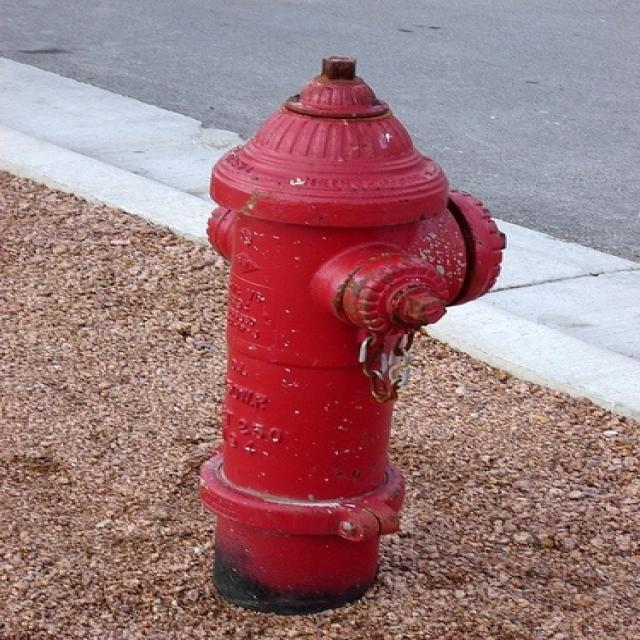fire_hydrant: (162, 44, 506, 610)
